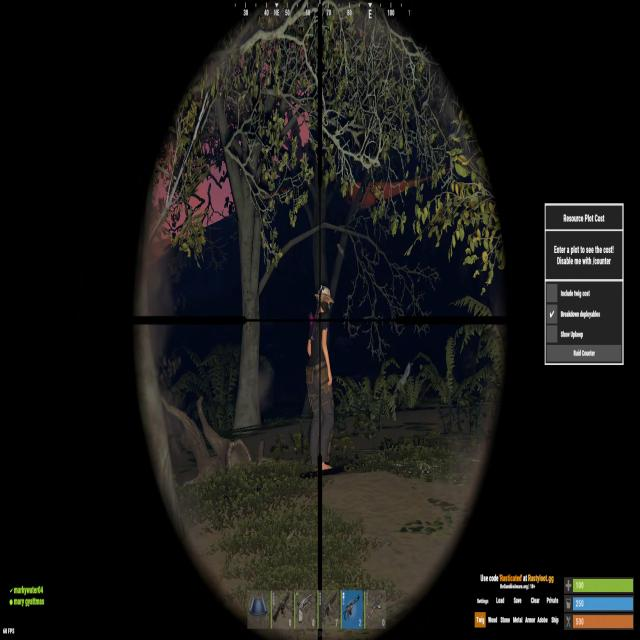Player: (307, 288, 337, 475)
